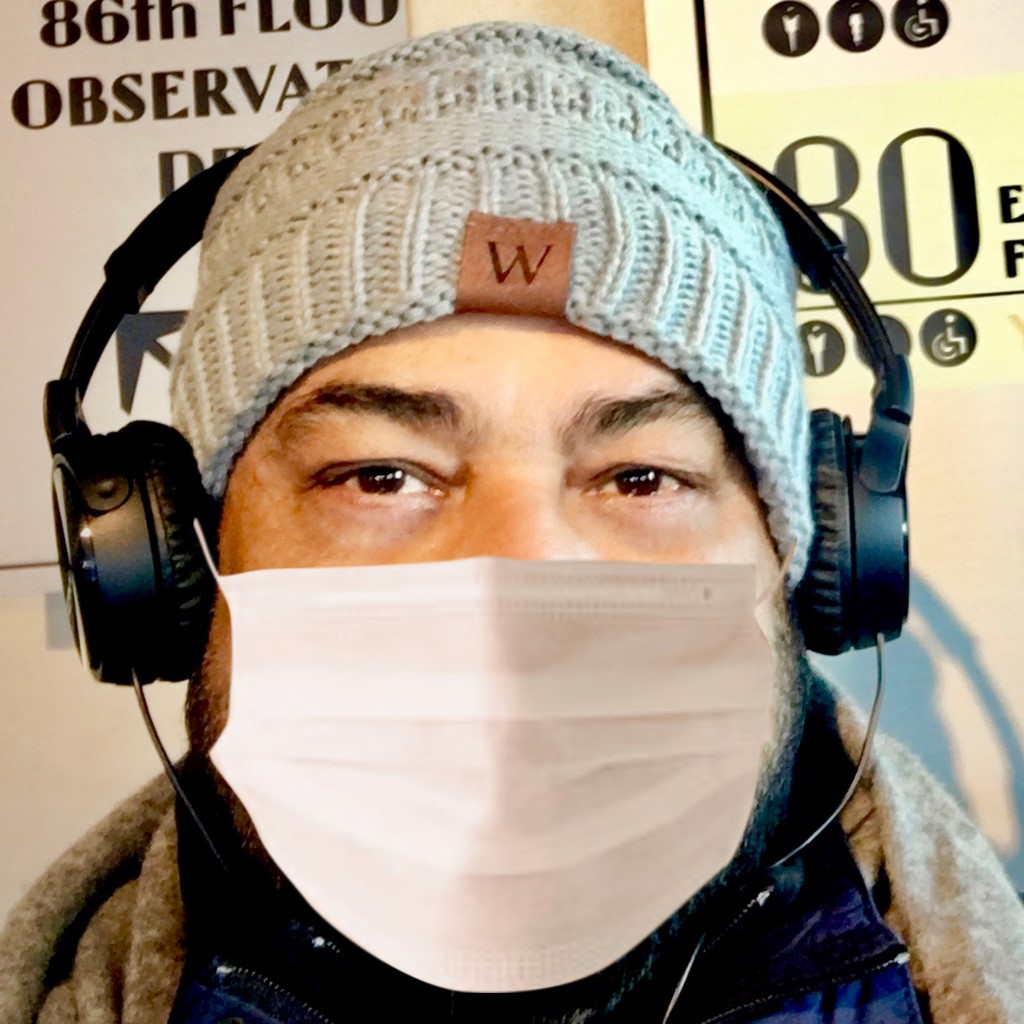con_mascara: (194, 224, 796, 970)
